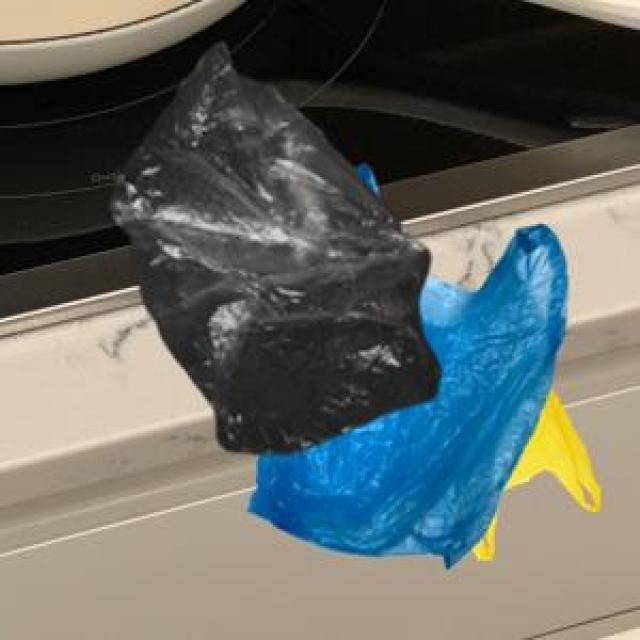waste: (111, 42, 440, 451), (252, 225, 601, 568)
